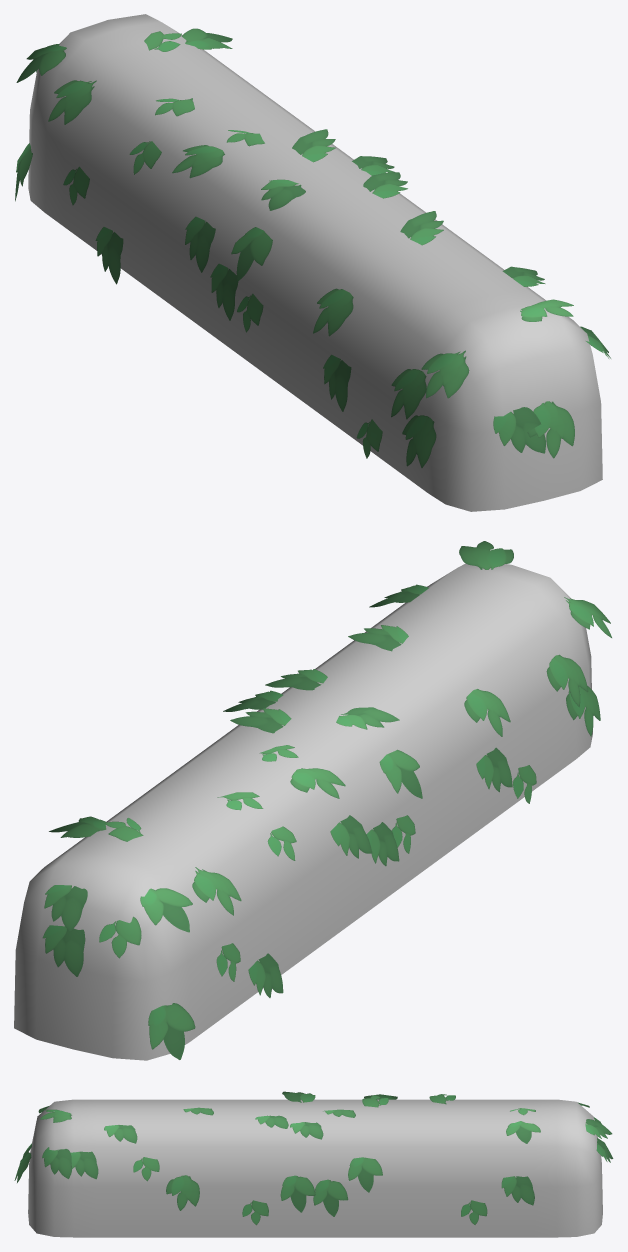
The model's file is Hedge_5m.fbx.
3 renders of one model, top to bottom at view 1: azimuth 30°, elevation 25°; view 2: azimuth 150°, elevation 25°; view 3: azimuth 270°, elevation 25°, orthographic. The views are drawn at different scales.
Visible parts, largest first — view 1: Hedge_5m, Leaf.095; view 2: Hedge_5m, Leaf.095; view 3: Hedge_5m, Leaf.095.
Boxes of the visible parts, bbox=[...] form: Hedge_5m: bbox=[28, 14, 602, 511]; Leaf.095: bbox=[15, 28, 610, 467]; Hedge_5m: bbox=[14, 563, 592, 1060]; Leaf.095: bbox=[42, 541, 611, 1059]; Hedge_5m: bbox=[28, 1099, 602, 1237]; Leaf.095: bbox=[14, 1091, 613, 1225].
Size of the model in its own units: 127 by 112 by 522.
